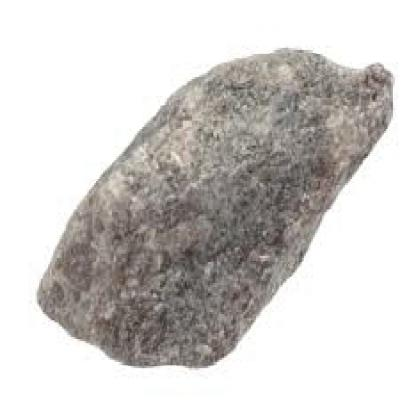Metamorphic_Quartize: (32, 31, 400, 366)
